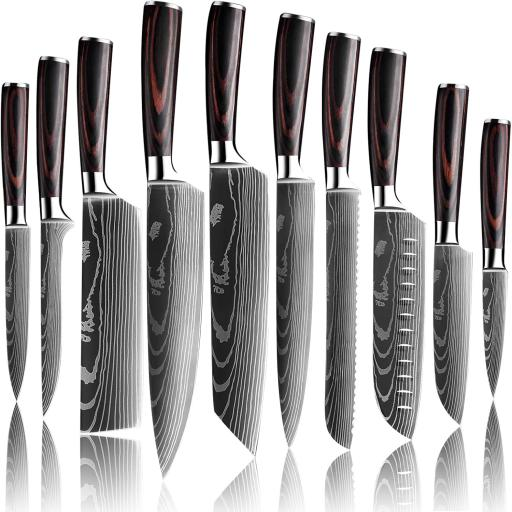knife: (198, 0, 263, 462)
